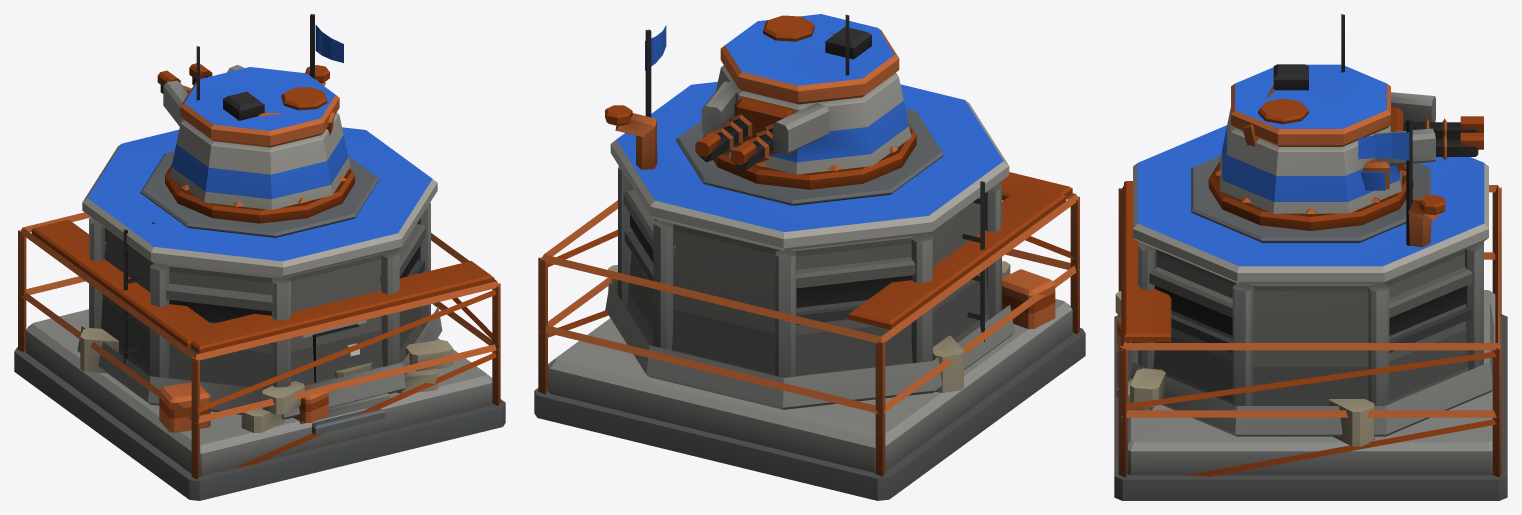
3 views of the same model, side by side, from view 1: azimuth 30°, elevation 25°; view 2: azimuth 150°, elevation 25°; view 3: azimuth 270°, elevation 25° (orthographic). The views are drawn at different scales.
Visible parts, largest first — view 1: body, scaffoldFrame, turret, swayFlag, barrel; view 2: body, turret, scaffoldFrame, barrel; view 3: body, turret, scaffoldFrame, barrel, swayFlag.
Boxes of the visible parts, <box> form: body: <box>14,14,505,500</box>; scaffoldFrame: <box>18,212,500,479</box>; turret: <box>163,46,350,209</box>; swayFlag: <box>315,25,343,62</box>; barrel: <box>157,63,212,93</box>; body: <box>534,29,1085,500</box>; turret: <box>701,14,911,174</box>; scaffoldFrame: <box>538,172,1079,476</box>; barrel: <box>695,96,795,170</box>; body: <box>1114,118,1507,500</box>; turret: <box>1220,14,1435,213</box>; scaffoldFrame: <box>1118,181,1501,477</box>; barrel: <box>1361,106,1483,190</box>; swayFlag: <box>1358,132,1409,160</box>.
Bounding box in the file's own units: 2 × 2.12 × 2.
